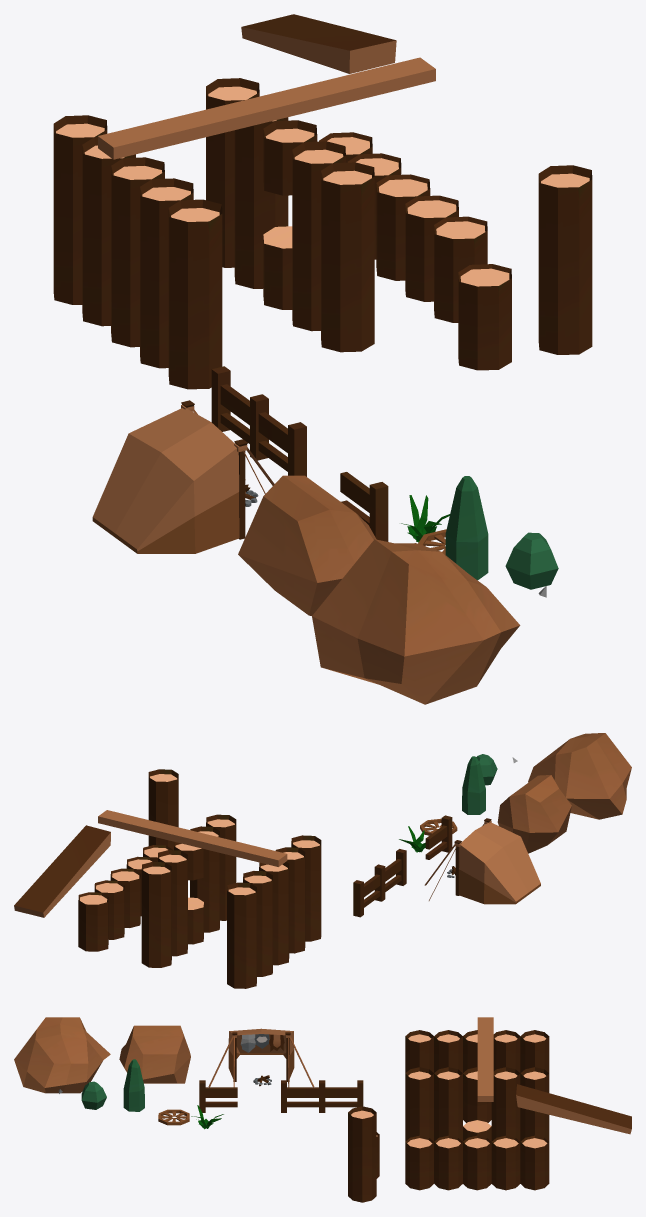
The model's file is desert_props.fbx.
3 views of the same model, one above another, from view 1: azimuth 30°, elevation 25°; view 2: azimuth 150°, elevation 25°; view 3: azimuth 270°, elevation 25° (orthographic). The views are drawn at different scales.
Parts seen in each view (by area): view 1: Cube.006, Cube.008, Cube.001, Cube.003, Cube.010, Cube, Cube.009, Cube.014, Cube.011, Cube.012, Cube.005, Cylinder.001 (+2 smaller); view 2: Cube.006, Cube.008, Cube.001, Cube.003, Cube.010, Cube, Cube.012, Cube.014, Cube.009, Cube.005, Cylinder.001, Cube.004 (+1 smaller); view 3: Cube.008, Cube.010, Cube.006, Cube.001, Cube, Cube.009, Cube.012, Cube.003, Cube.005, Cube.014, Cylinder.001, Cube.004 (+2 smaller).
Part boxes in pixels (bbox=[...]): Cube.006: bbox=[53, 115, 222, 389]; Cube.008: bbox=[206, 78, 374, 352]; Cube.001: bbox=[312, 539, 520, 704]; Cube.003: bbox=[92, 400, 274, 553]; Cube.010: bbox=[319, 132, 487, 322]; Cube: bbox=[238, 475, 376, 615]; Cube.009: bbox=[538, 165, 592, 354]; Cube.014: bbox=[98, 57, 435, 159]; Cube.011: bbox=[458, 264, 511, 370]; Cube.012: bbox=[241, 14, 396, 73]; Cube.005: bbox=[211, 366, 306, 476]; Cylinder.001: bbox=[445, 476, 488, 580]; Cube.006: bbox=[227, 835, 321, 988]; Cube.008: bbox=[141, 814, 236, 967]; Cube.001: bbox=[528, 733, 631, 819]; Cube.003: bbox=[424, 818, 540, 904]; Cube.010: bbox=[78, 845, 172, 951]; Cube: bbox=[497, 775, 571, 853]; Cube.012: bbox=[14, 825, 110, 917]; Cube.014: bbox=[98, 810, 287, 866]; Cube.009: bbox=[148, 769, 178, 850]; Cube.005: bbox=[353, 849, 406, 917]; Cylinder.001: bbox=[462, 756, 485, 814]; Cube.004: bbox=[425, 815, 452, 859]; Cube.008: bbox=[405, 1067, 549, 1141]; Cube.010: bbox=[405, 1135, 549, 1190]; Cube.006: bbox=[405, 1030, 549, 1122]; Cube.001: bbox=[14, 1017, 110, 1093]; Cube: bbox=[119, 1025, 190, 1083]; Cube.009: bbox=[348, 1106, 376, 1202]; Cube.012: bbox=[516, 1084, 631, 1134]; Cube.003: bbox=[208, 1028, 314, 1087]; Cube.005: bbox=[281, 1080, 363, 1112]; Cube.014: bbox=[477, 1017, 493, 1101]; Cylinder.001: bbox=[123, 1059, 144, 1111]; Cube.004: bbox=[199, 1080, 237, 1112].
Bounding box in the file's own units: 1691 × 572 × 3132.
Materials: 1 (1 with a texture image).
